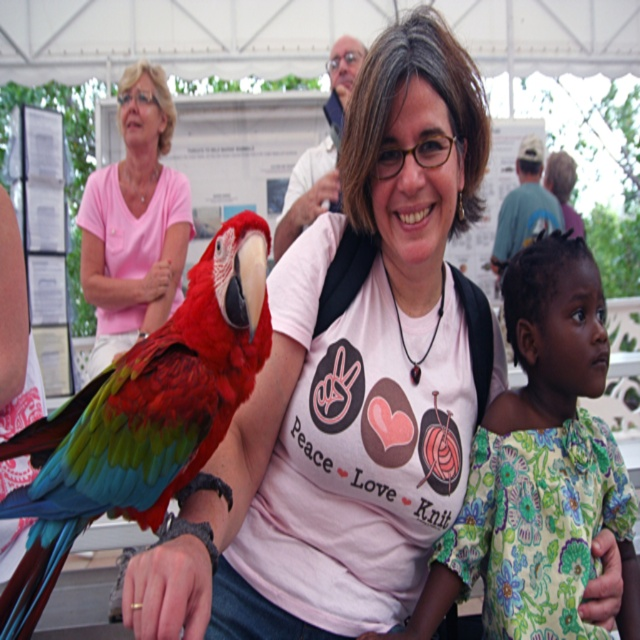Parrot: (0, 207, 273, 639)
